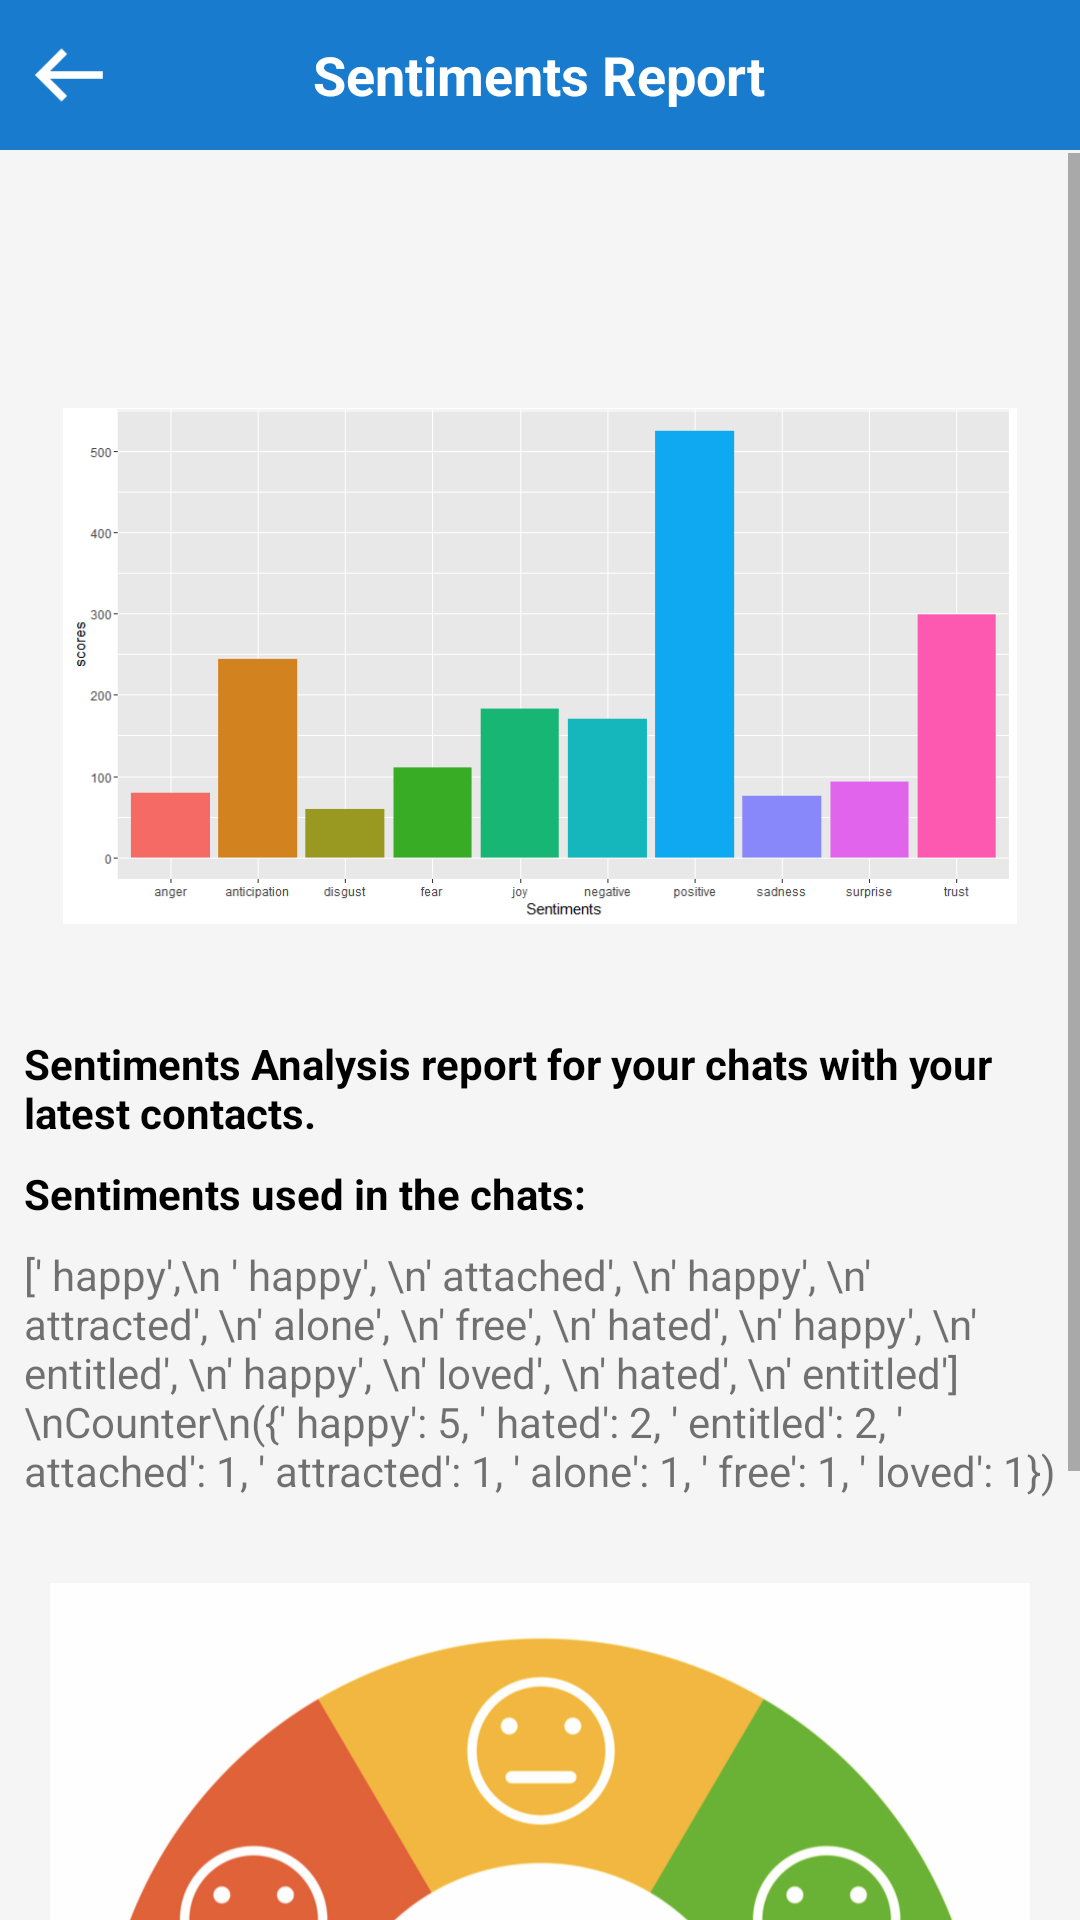

Where to tap for icons on this 1080px×1920px app screen, as point (x, y):
left: point (69, 75)
